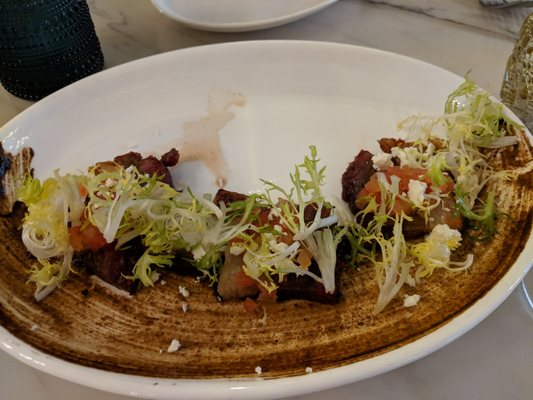pizza: (0, 0, 105, 102)
sushi: (13, 57, 533, 379)
